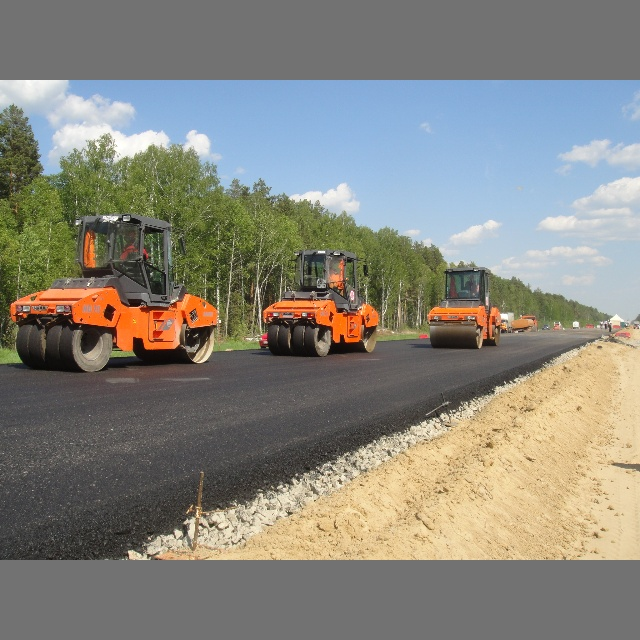Рабочая техника: (11, 215, 219, 370), (266, 249, 379, 355), (428, 270, 501, 347)
